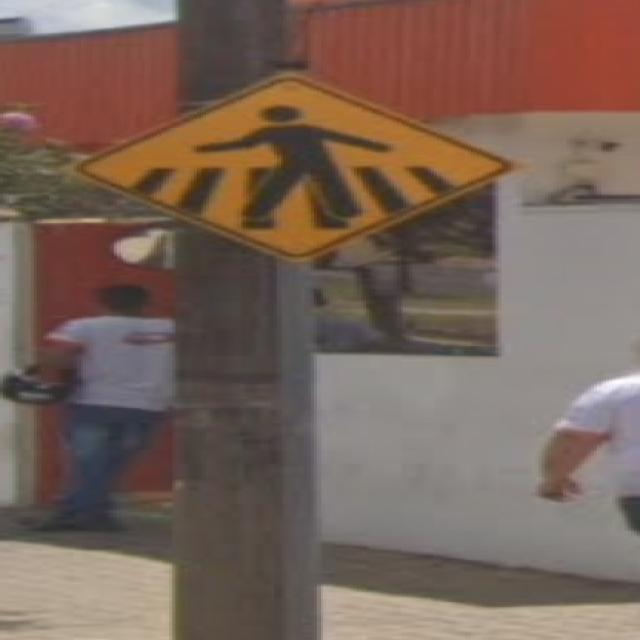pedestrian crossing: (49, 69, 548, 278)
